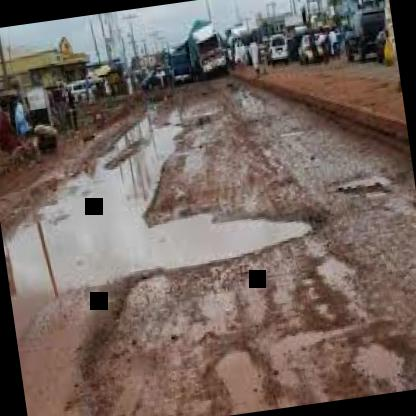car: (264, 24, 294, 70)
